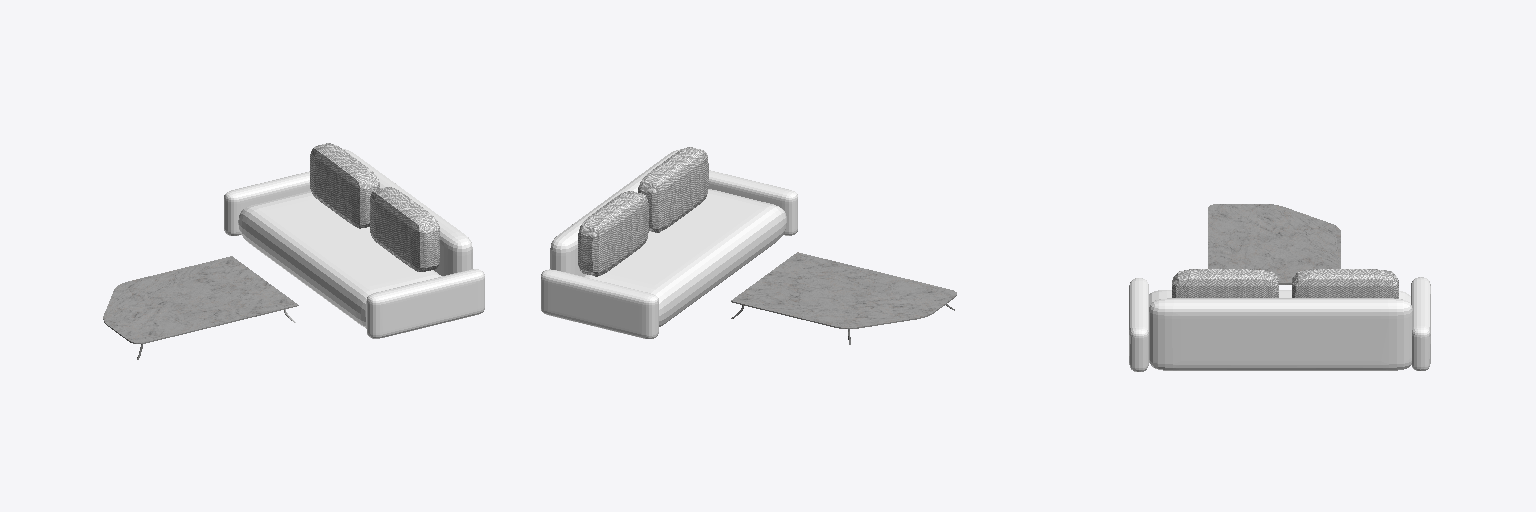
3 renders of one model, left to right at view 1: azimuth 30°, elevation 25°; view 2: azimuth 150°, elevation 25°; view 3: azimuth 270°, elevation 25°, orthographic.
Visible parts, largest first — view 1: Sofa.004_Cube.159, Meja_Cube.162, Sofa.003_Cube.156, Sofa.008_Cube.083, Sofa.007_Cube.082, Sofa.006_Cube.161, Sofa.005_Cube.160; view 2: Sofa.004_Cube.159, Meja_Cube.162, Sofa.006_Cube.161, Sofa.007_Cube.082, Sofa.008_Cube.083, Sofa.003_Cube.156, Sofa.005_Cube.160; view 3: Sofa.005_Cube.160, Meja_Cube.162, Sofa.007_Cube.082, Sofa.008_Cube.083, Sofa.003_Cube.156, Sofa.006_Cube.161.
Part boxes in pixels (left/top/right/bottom): Sofa.004_Cube.159: left=238, top=191, right=441, bottom=327; Meja_Cube.162: left=103, top=256, right=298, bottom=343; Sofa.003_Cube.156: left=366, top=269, right=484, bottom=338; Sofa.008_Cube.083: left=370, top=187, right=439, bottom=271; Sofa.007_Cube.082: left=310, top=143, right=379, bottom=228; Sofa.006_Cube.161: left=224, top=171, right=310, bottom=235; Sofa.005_Cube.160: left=343, top=149, right=472, bottom=275; Sofa.004_Cube.159: left=583, top=189, right=786, bottom=326; Meja_Cube.162: left=731, top=252, right=956, bottom=328; Sofa.006_Cube.161: left=541, top=269, right=658, bottom=338; Sofa.007_Cube.082: left=578, top=191, right=648, bottom=276; Sofa.008_Cube.083: left=638, top=147, right=708, bottom=232; Sofa.003_Cube.156: left=708, top=170, right=797, bottom=235; Sofa.005_Cube.160: left=550, top=149, right=680, bottom=276; Sofa.005_Cube.160: left=1149, top=298, right=1412, bottom=370; Meja_Cube.162: left=1208, top=204, right=1340, bottom=284; Sofa.007_Cube.082: left=1292, top=269, right=1398, bottom=298; Sofa.008_Cube.083: left=1172, top=269, right=1278, bottom=297; Sofa.003_Cube.156: left=1129, top=278, right=1148, bottom=371; Sofa.006_Cube.161: left=1411, top=277, right=1430, bottom=370.
Bounding box in the file's own units: 2.43 × 0.6393 × 2.02.
Materials: 5 (3 with a texture image).